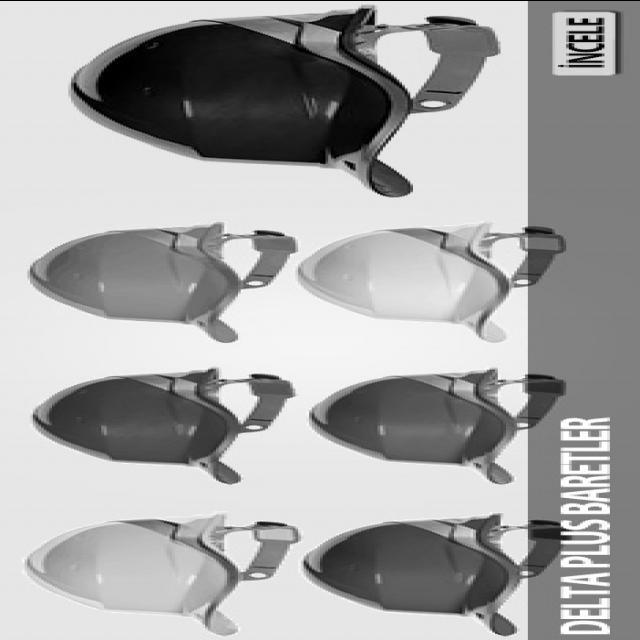safety_helmet: (71, 5, 503, 197), (215, 195, 427, 533)
